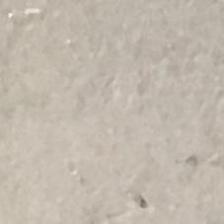Non_Crack: (23, 6, 224, 224)
